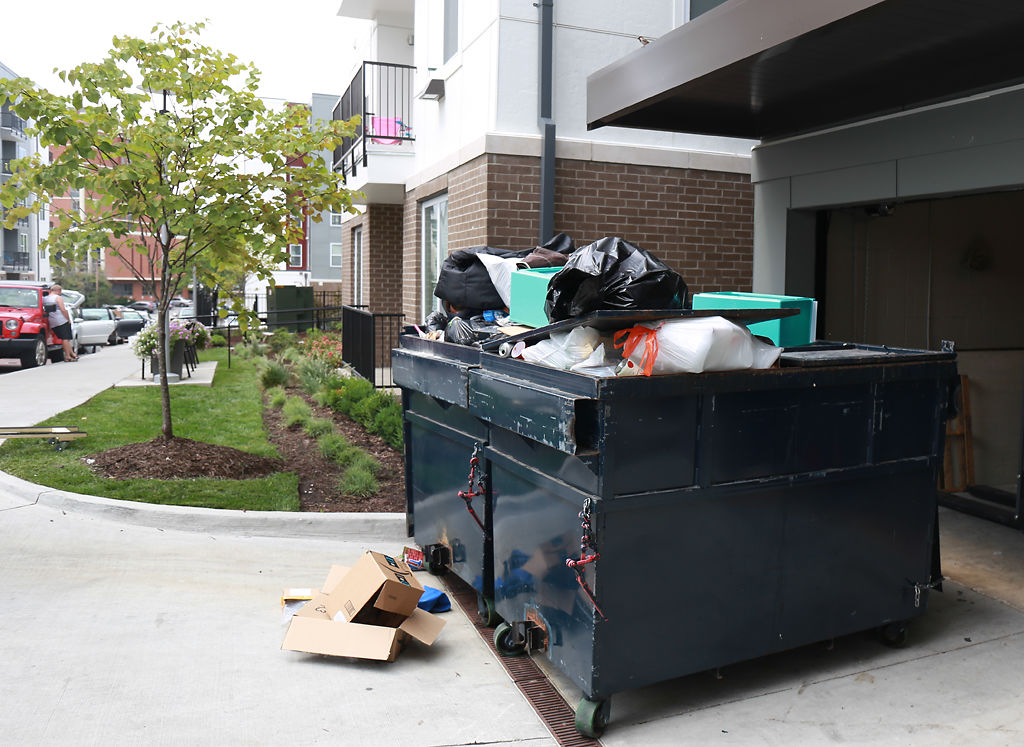Dumpster: (379, 292, 965, 728)
